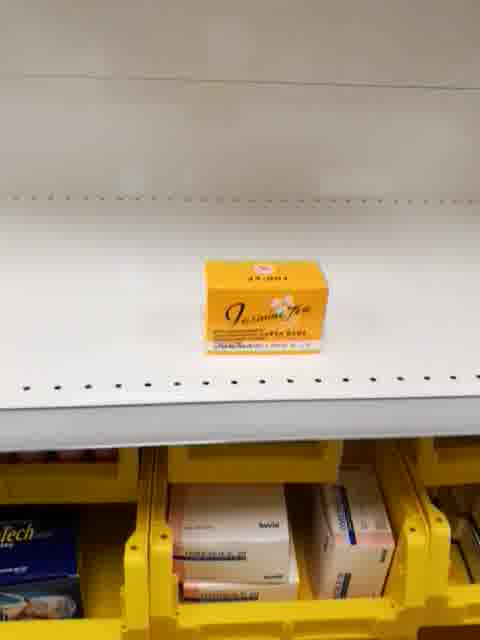jasminetea: (201, 252, 330, 357)
